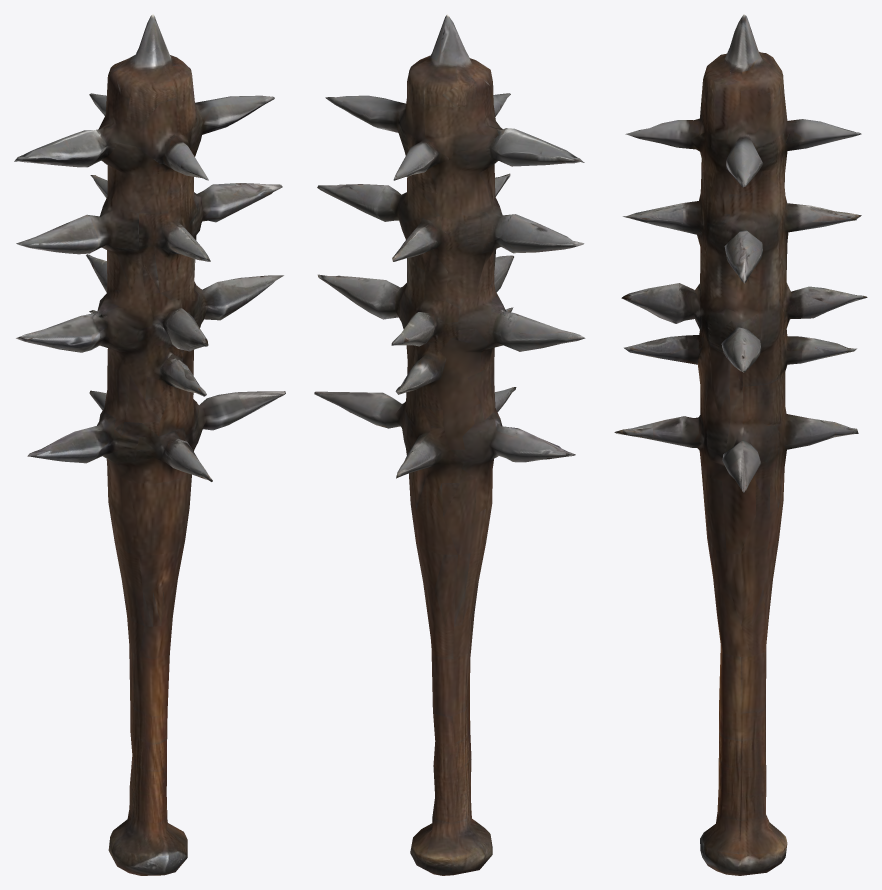
Rendered from 1492_club.glb.
The picture shows the model from 3 angles, left to right: view 1: azimuth 30°, elevation 25°; view 2: azimuth 150°, elevation 25°; view 3: azimuth 270°, elevation 25°; orthographic projection.
Parts seen in each view (by area): view 1: Model; view 2: Model; view 3: Model.
Part boxes in pixels (x1,y1,x2,y2): Model: [14, 14, 285, 875]; Model: [314, 14, 585, 875]; Model: [614, 14, 867, 875].
Size of the model in its own units: 0.3342 by 1 by 0.2695.
Materials: 1 (1 with a texture image).
